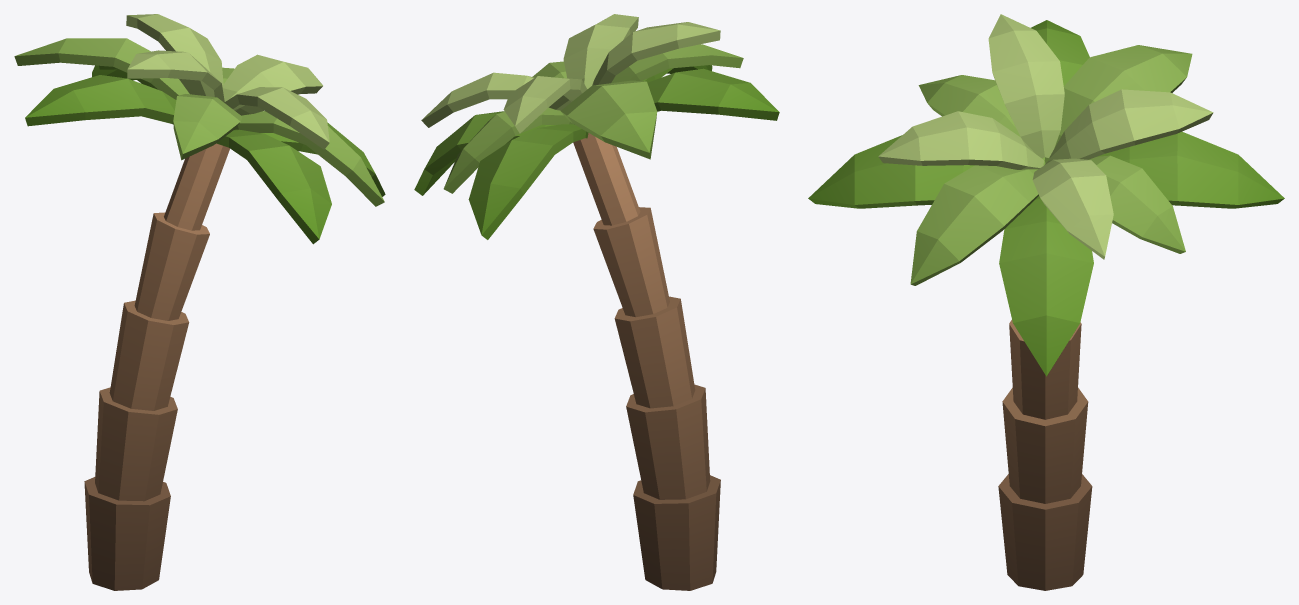
Rendered from palm-tree-tilted-2.glb.
3 views of the same model, side by side, from view 1: azimuth 30°, elevation 25°; view 2: azimuth 150°, elevation 25°; view 3: azimuth 270°, elevation 25° (orthographic). The views are drawn at different scales.
Visible parts, largest first — view 1: palm tree tilted 2; view 2: palm tree tilted 2; view 3: palm tree tilted 2.
Boxes of the visible parts, bbox=[...] form: palm tree tilted 2: bbox=[14, 14, 385, 590]; palm tree tilted 2: bbox=[414, 14, 779, 590]; palm tree tilted 2: bbox=[808, 14, 1284, 590].
Bounding box in the file's own units: 4.8 × 6.72 × 5.25.
Materials: 1 (1 with a texture image).
